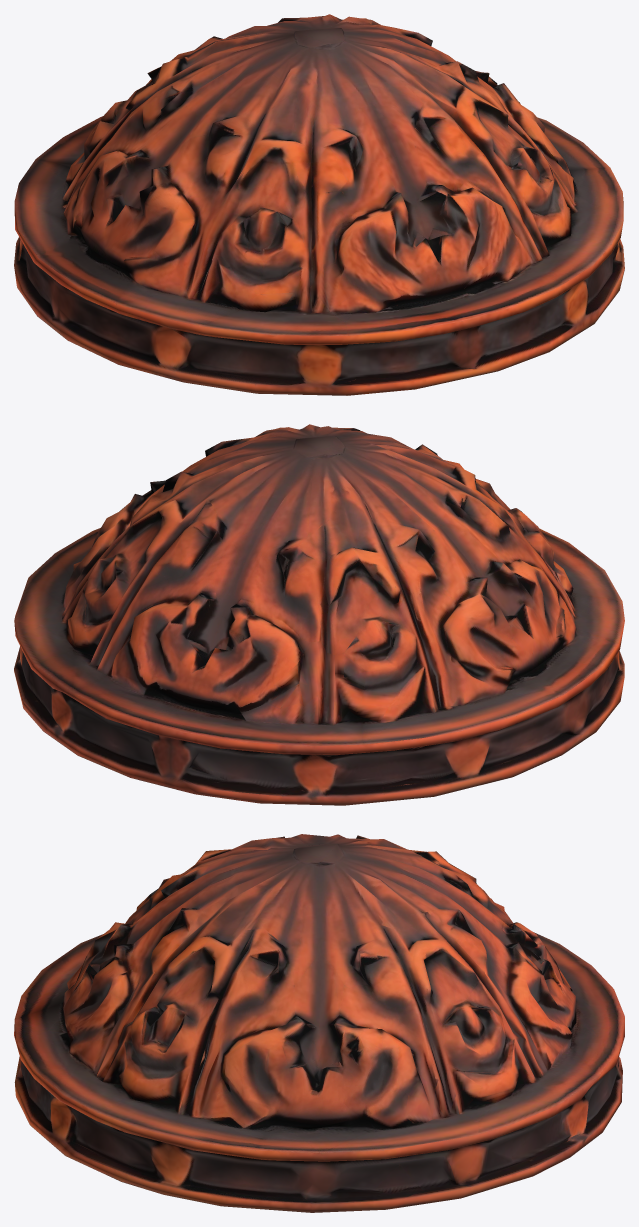
Rendered from waypoint-web.glb.
3 renders of one model, top to bottom at view 1: azimuth 30°, elevation 25°; view 2: azimuth 150°, elevation 25°; view 3: azimuth 270°, elevation 25°, orthographic.
Bounding box in the file's own units: 2 × 0.8384 × 1.99.
1 material, 1 textured.
